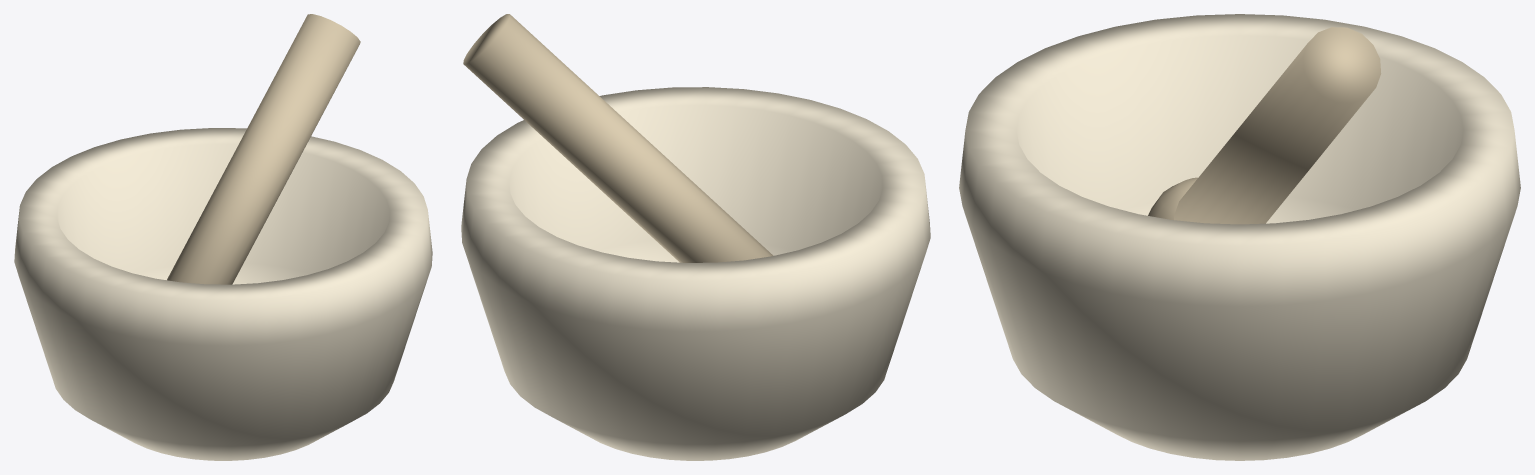
File: pigment-mortar.glb
The picture shows the model from 3 angles, left to right: view 1: azimuth 30°, elevation 25°; view 2: azimuth 150°, elevation 25°; view 3: azimuth 270°, elevation 25°; orthographic projection. The views are drawn at different scales.
Parts seen in each view (by area): view 1: pigment-mortar__marble, pigment-mortar__limestone; view 2: pigment-mortar__marble, pigment-mortar__limestone; view 3: pigment-mortar__marble, pigment-mortar__limestone.
Part boxes in pixels (x1,y1,x2,y2): pigment-mortar__marble: [14, 128, 432, 460]; pigment-mortar__limestone: [167, 14, 360, 284]; pigment-mortar__marble: [461, 87, 930, 460]; pigment-mortar__limestone: [463, 14, 773, 262]; pigment-mortar__marble: [959, 14, 1520, 460]; pigment-mortar__limestone: [1148, 27, 1381, 224].
Size of the model in its own units: 0.44 by 0.3934 by 0.44.
